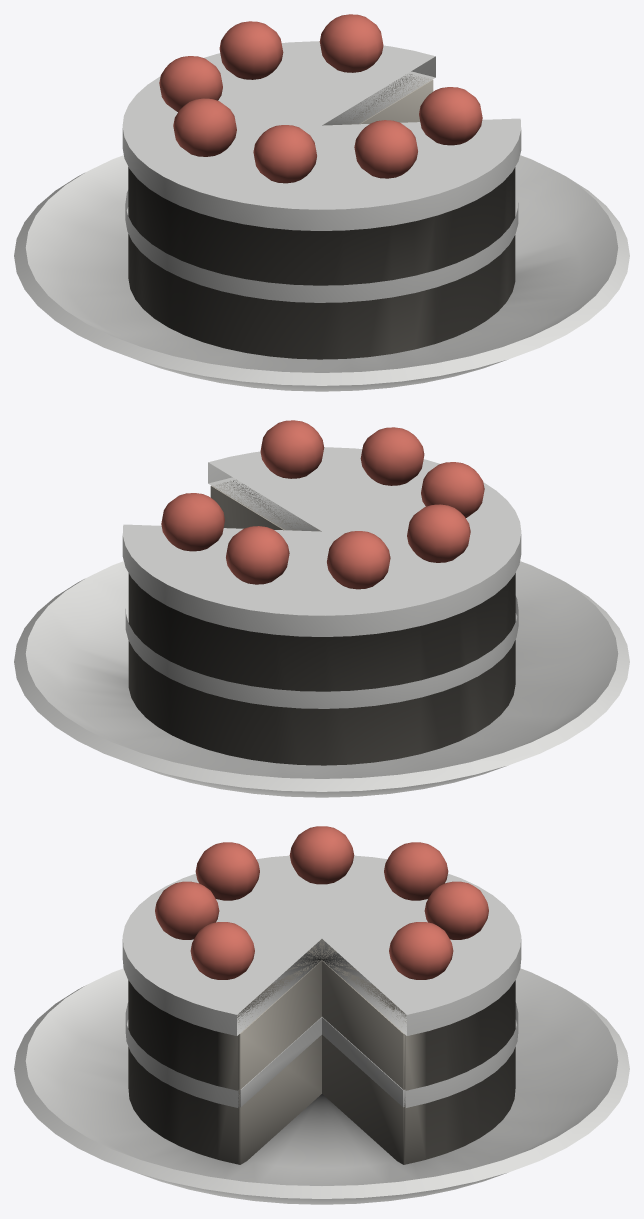
The model's file is meal_cake.glb.
3 views of the same model, one above another, from view 1: azimuth 30°, elevation 25°; view 2: azimuth 150°, elevation 25°; view 3: azimuth 270°, elevation 25° (orthographic).
Visible parts, largest first — view 1: PART; view 2: PART; view 3: PART.
Boxes of the visible parts, <box> form: PART: <box>14,14,629,391</box>; PART: <box>14,420,629,797</box>; PART: <box>14,826,629,1204</box>.
Bounding box in the file's own units: 0.21 × 0.0868 × 0.21.
